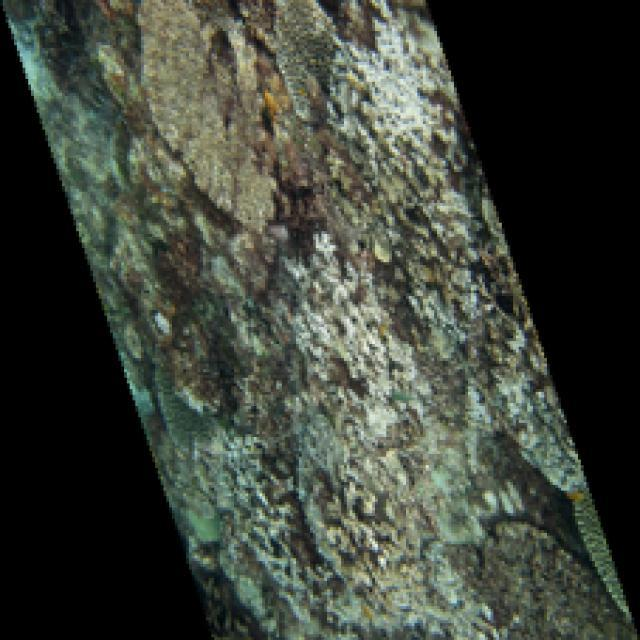Dead Coral: (65, 14, 322, 222), (190, 418, 422, 620)
